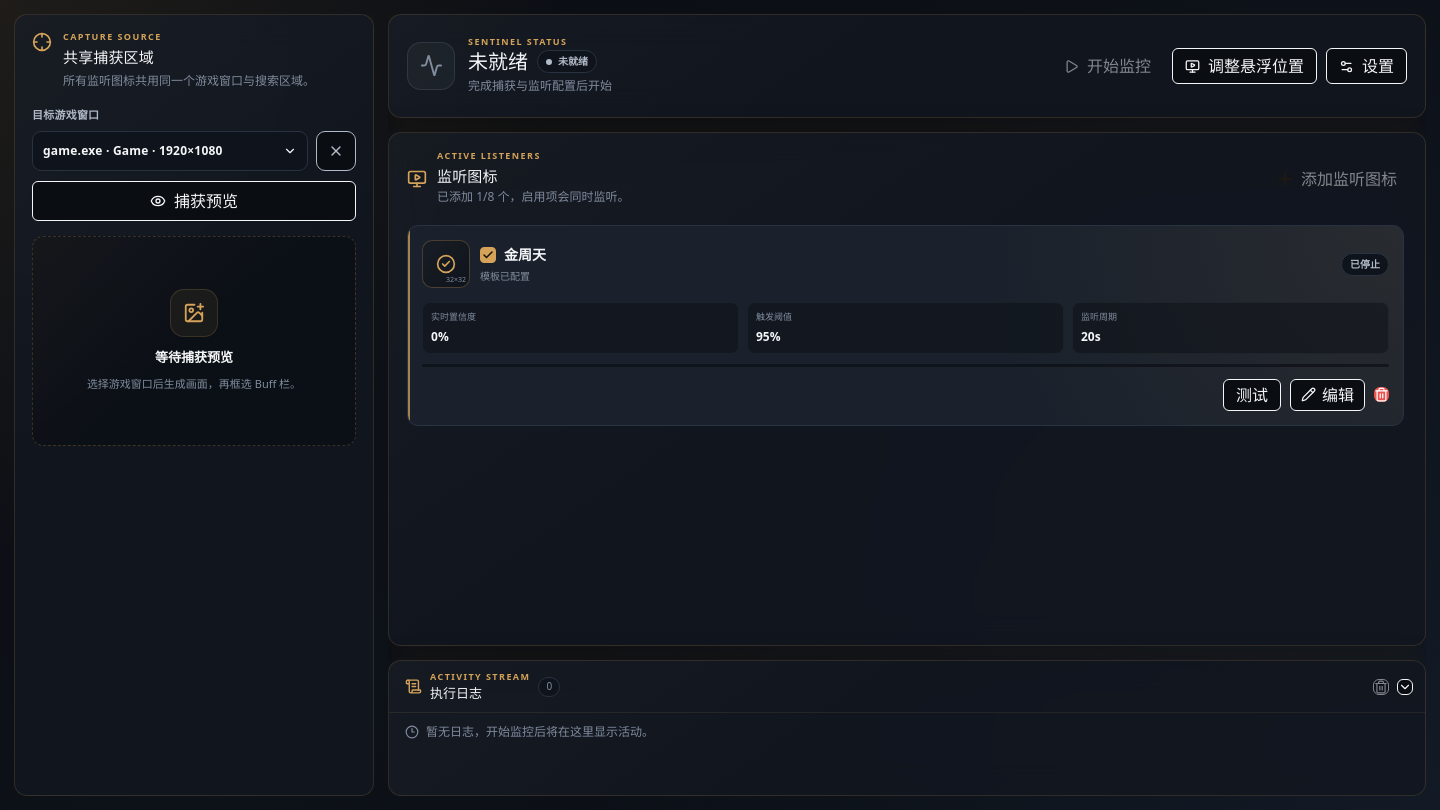
BuffAssistantPage › requires inline confirmation before clearing all configuration
Click the button "设置". click: (1366, 66)
box: [1326, 48, 1407, 84]
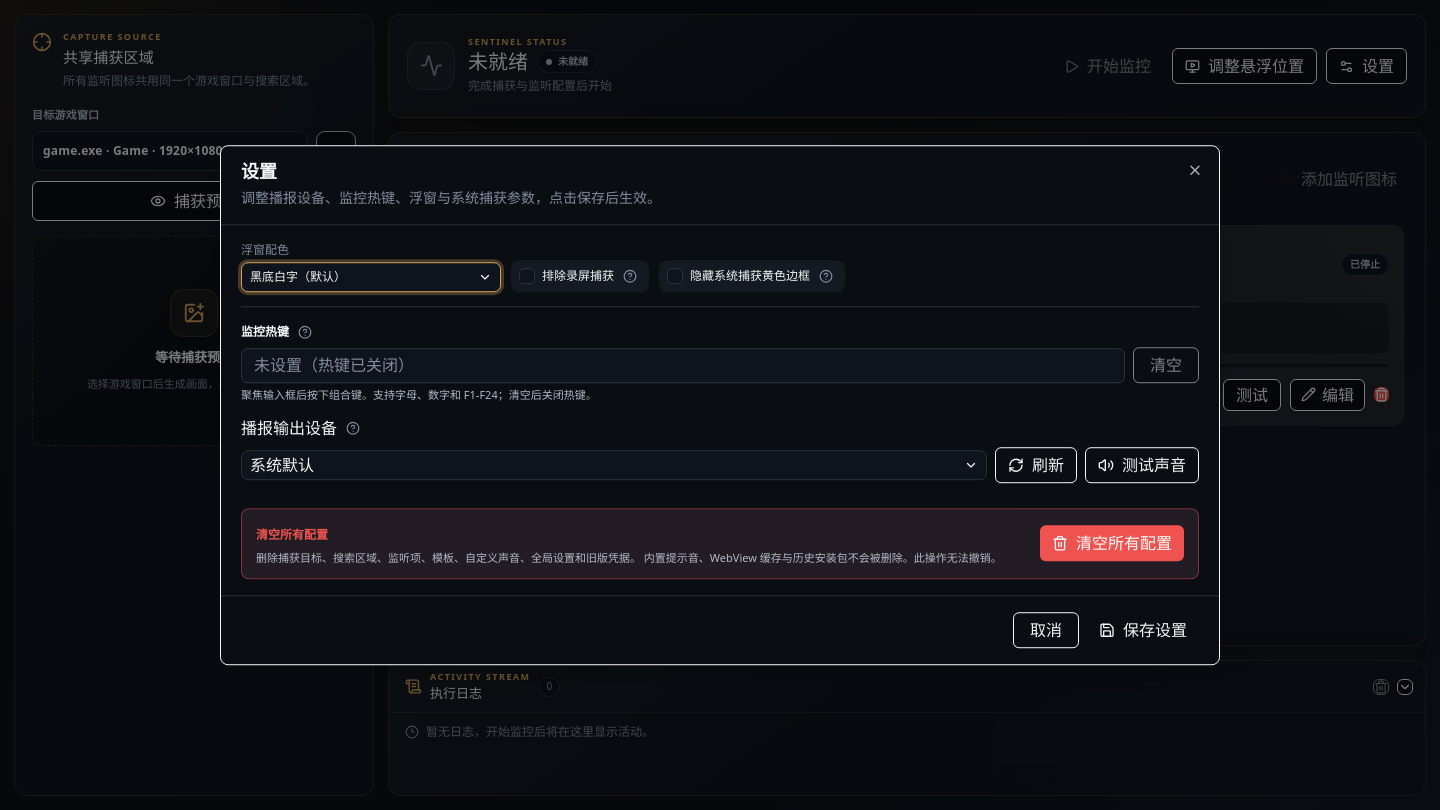
Click the button "清空所有配置". click: (1112, 543)
box: [1040, 525, 1184, 561]
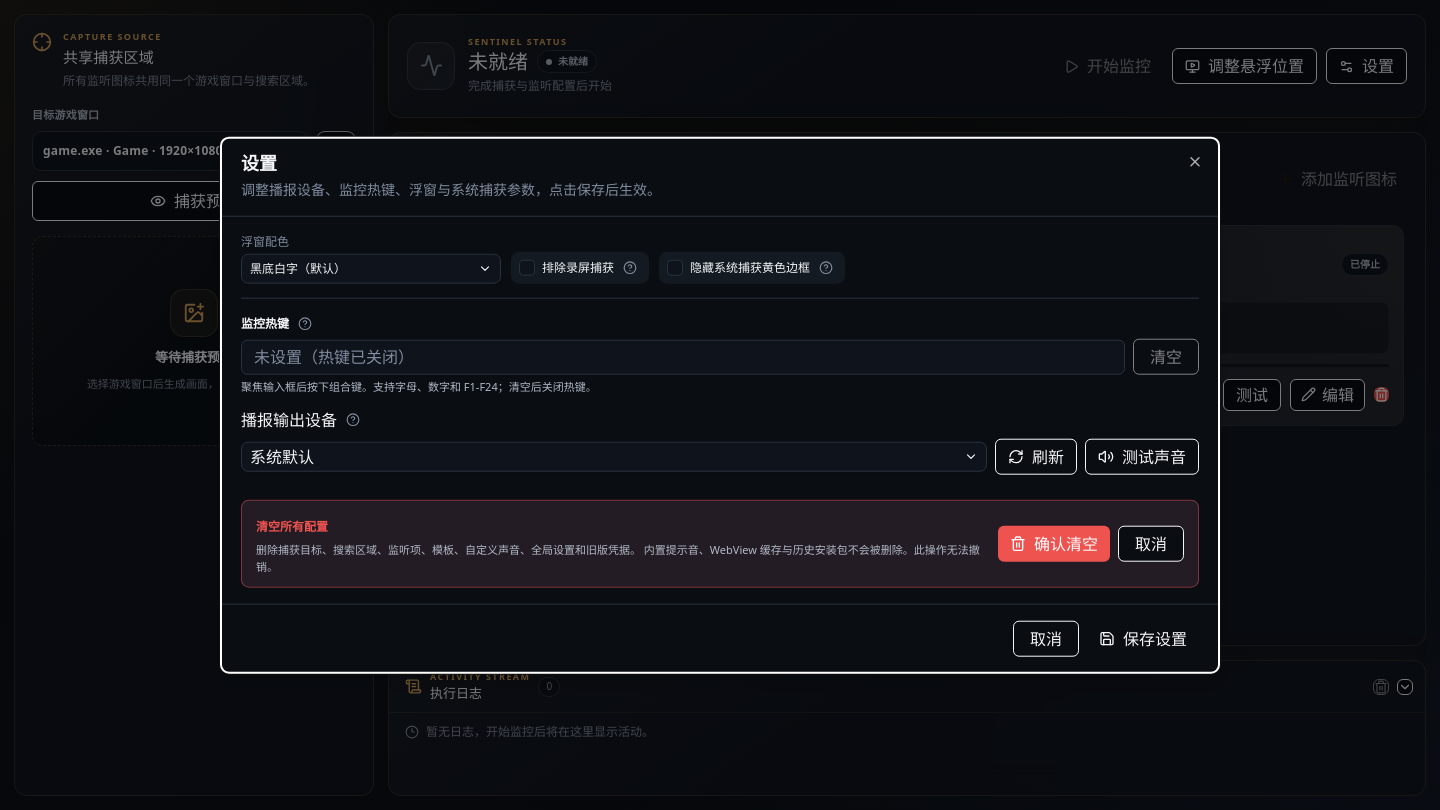
Expected: the button "确认清空" is shown, [998, 525, 1110, 561]
Click the button with aria-label "取消清空配置". click: (1151, 543)
box: [1118, 525, 1184, 561]
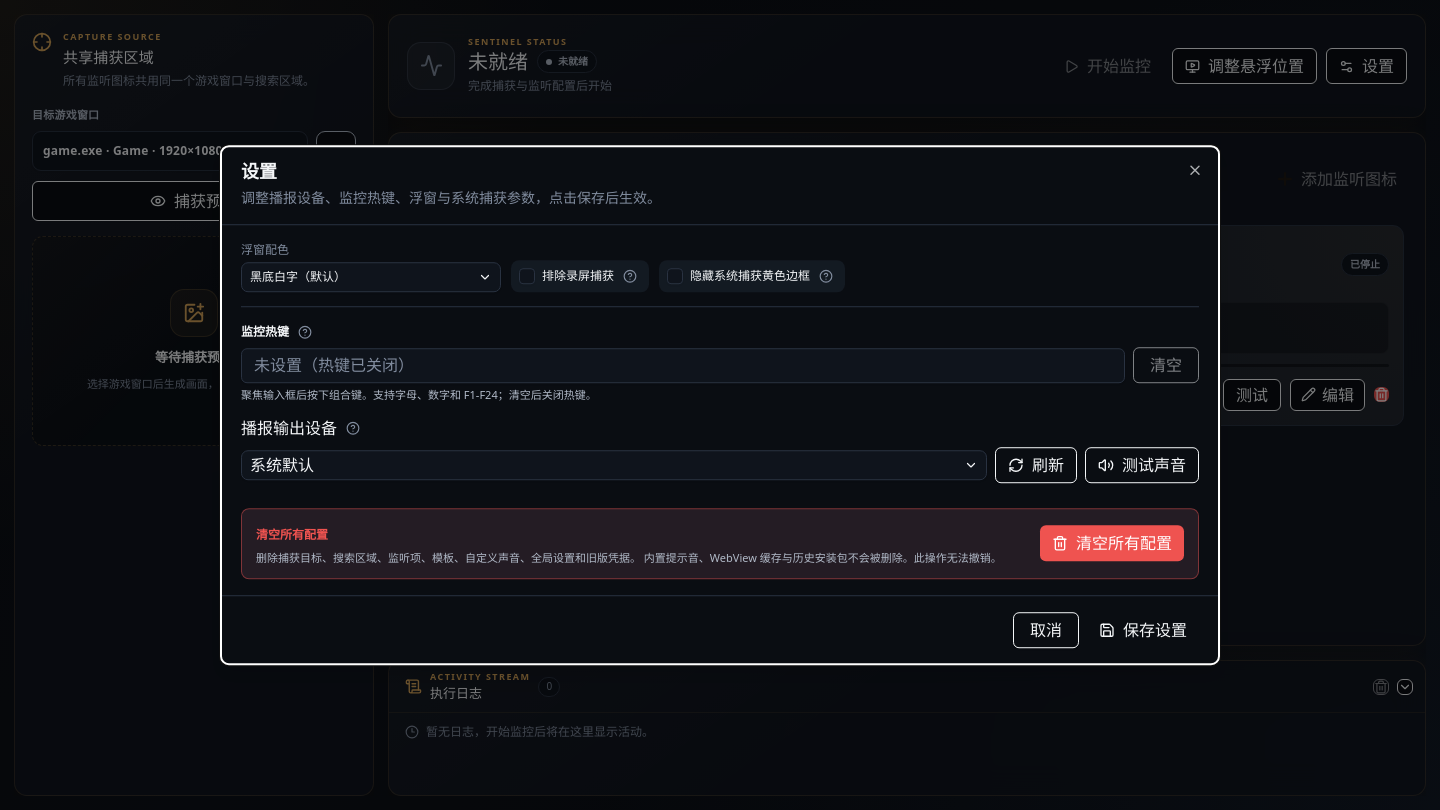
Expected: the button "清空所有配置" is shown
Click the button "清空所有配置". click: (1112, 543)
box: [1040, 525, 1184, 561]
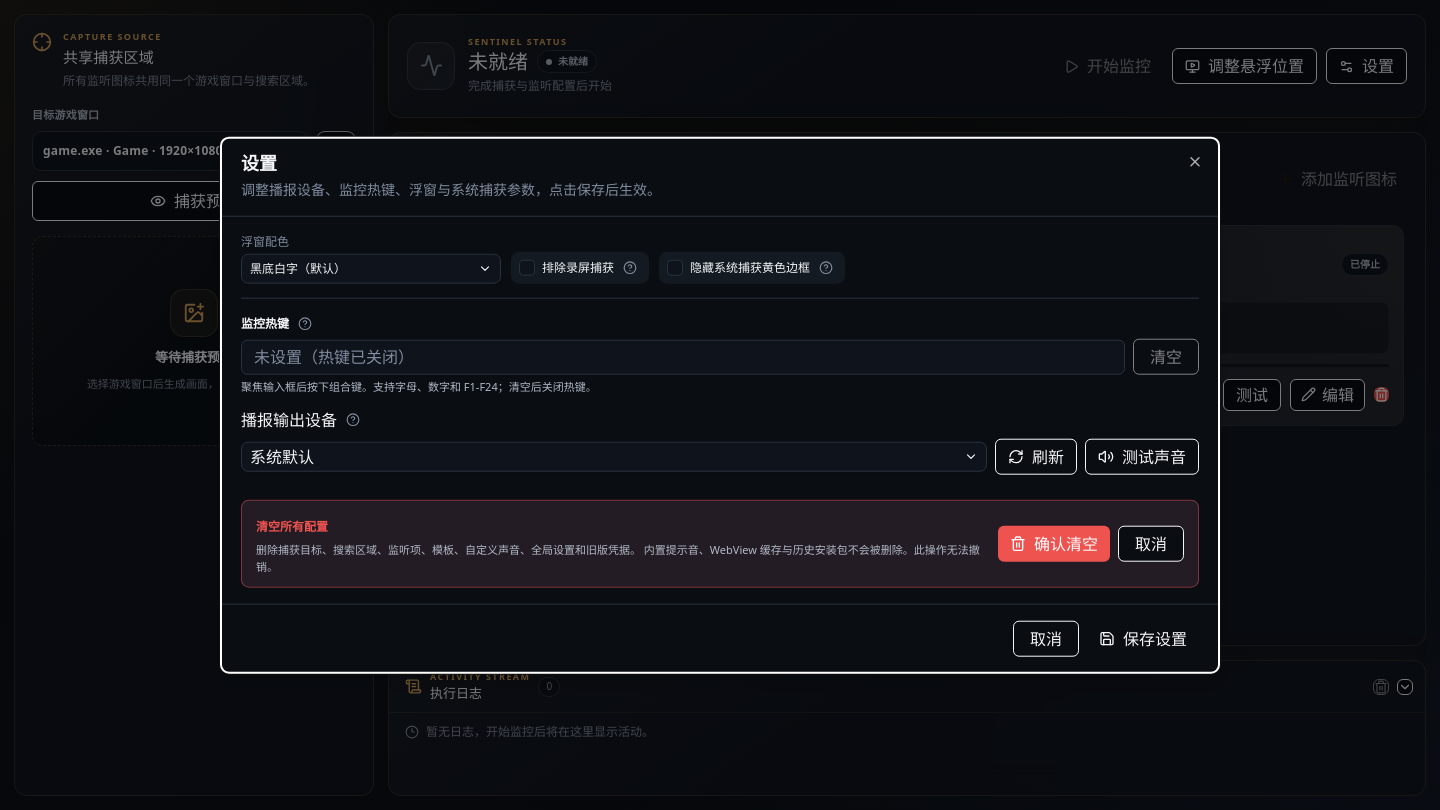
Click the button "确认清空". click: (1054, 543)
box: [998, 525, 1110, 561]
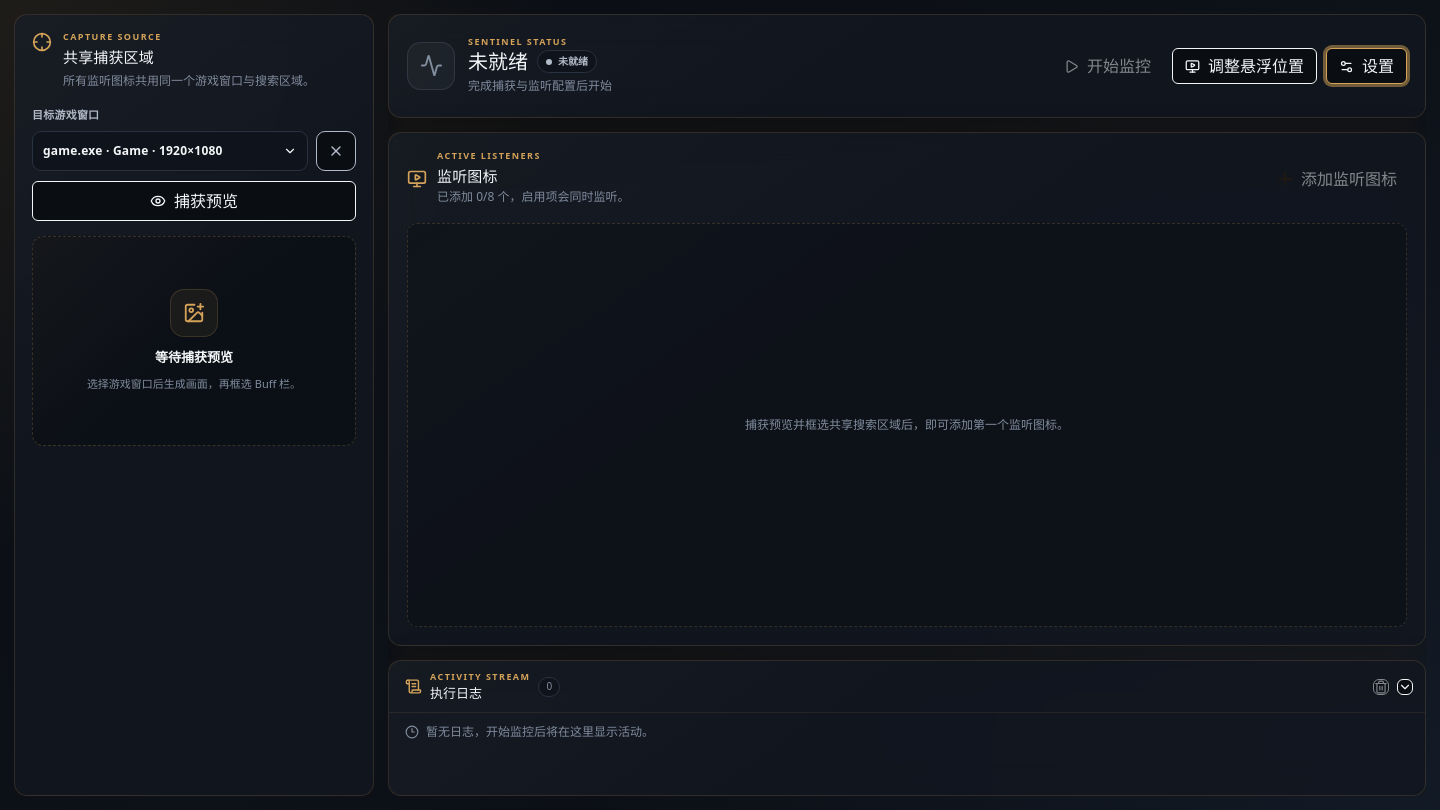
Expected: the text "等待捕获预览" is shown, [155, 348, 233, 368]
Expected: the text "金周天" is gone
